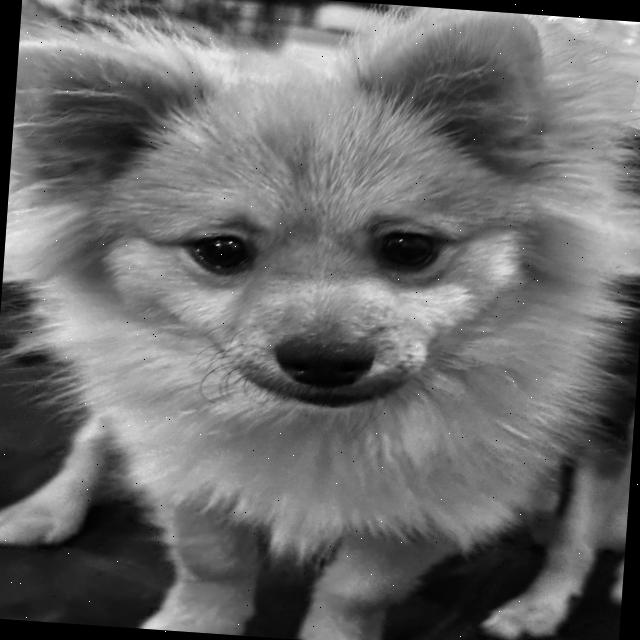pomeranian_dog: (0, 0, 631, 448)
